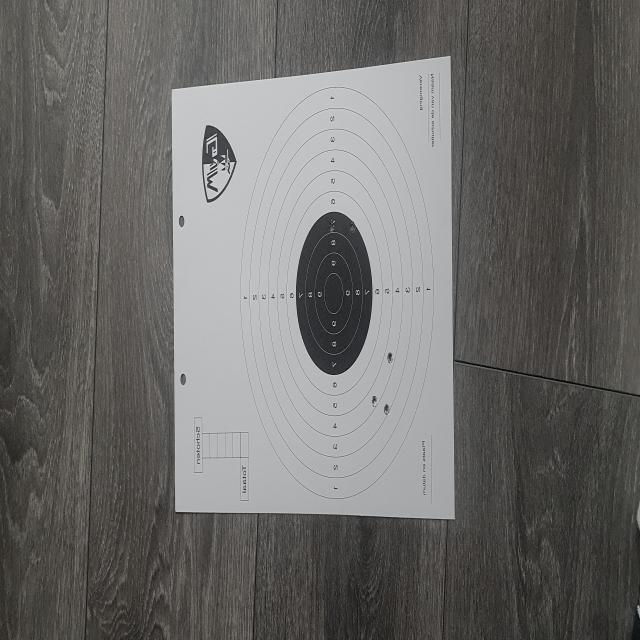3: (384, 403, 391, 416)
4: (387, 351, 394, 365), (372, 394, 378, 408)
7: (328, 219, 336, 234), (349, 220, 356, 236)
Target: (240, 85, 434, 501)
black_contour: (296, 210, 373, 376)
